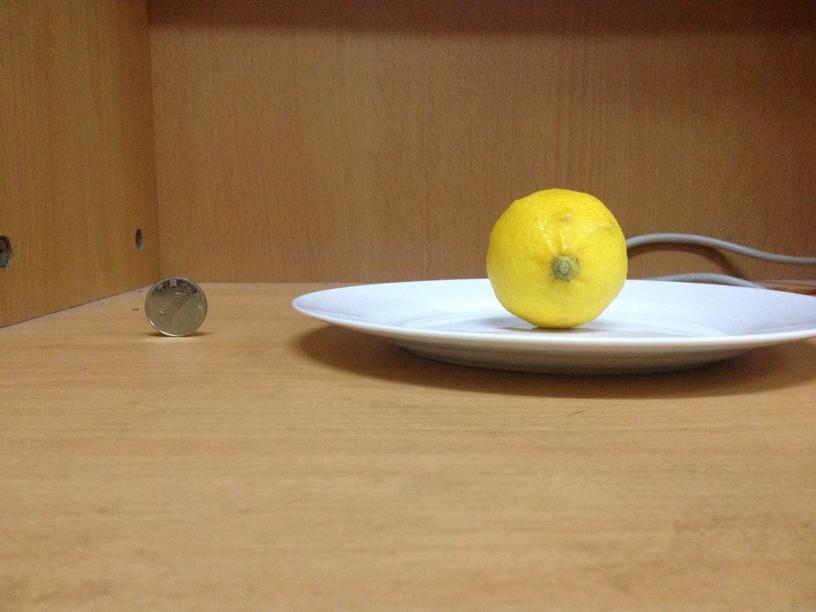coin: (144, 277, 207, 338)
lemon: (484, 187, 628, 329)
